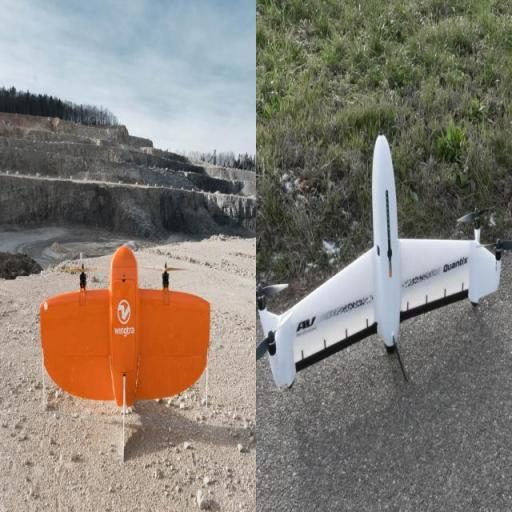uav: (263, 128, 512, 390)
